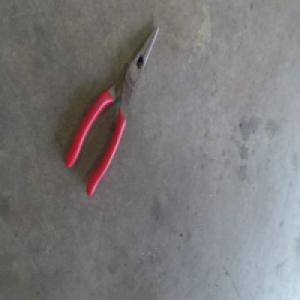Pliers: (69, 23, 164, 195)
